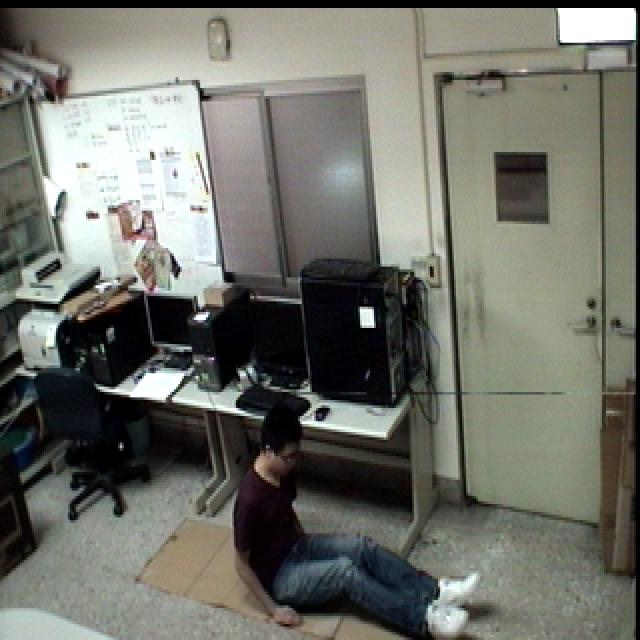sit: (226, 381, 488, 640)
